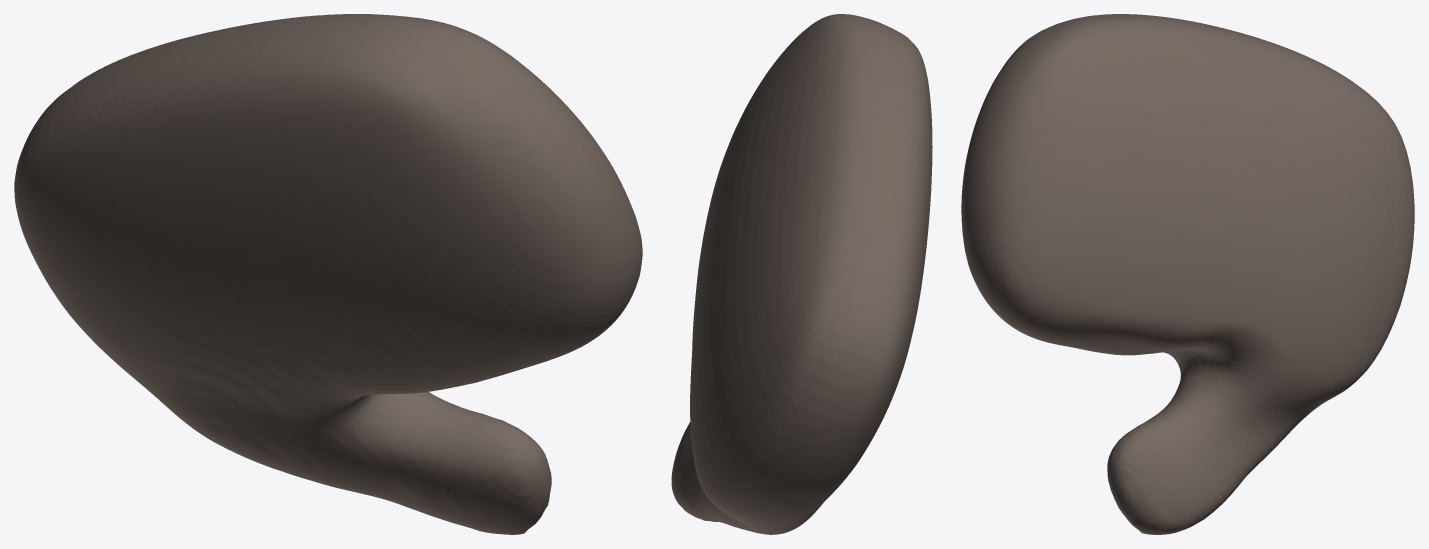
File: jess-left.gltf
The picture shows the model from 3 angles, left to right: view 1: azimuth 30°, elevation 25°; view 2: azimuth 150°, elevation 25°; view 3: azimuth 270°, elevation 25°; orthographic projection. The views are drawn at different scales.
Visible parts, largest first — view 1: Layer_9; view 2: Layer_9; view 3: Layer_9.
Part boxes in pixels (x1=…): Layer_9: x1=14, y1=14, x2=642, y2=534; Layer_9: x1=671, y1=14, x2=932, y2=534; Layer_9: x1=961, y1=14, x2=1414, y2=534.
Bounding box in the file's own units: 63.14 × 86.13 × 78.12.
1 material, 1 textured.
